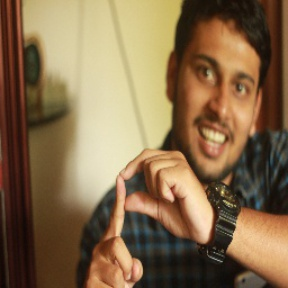P: (80, 147, 203, 288)
